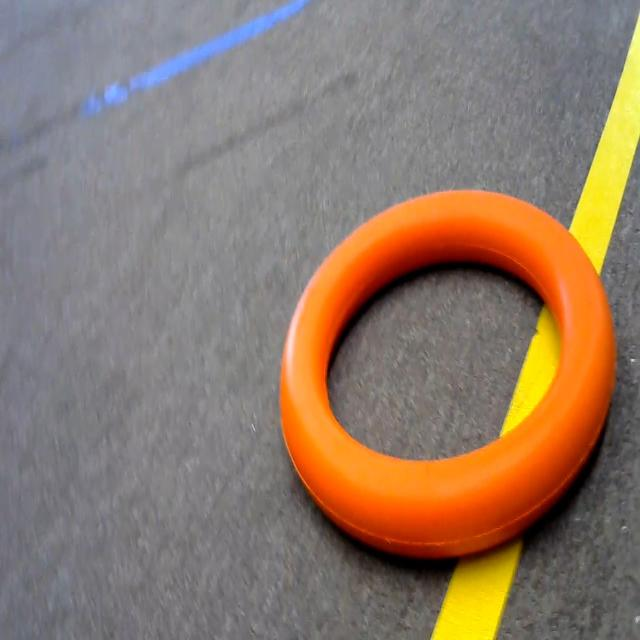note: (268, 173, 626, 565)
